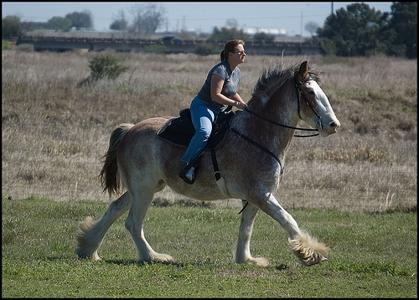person: (178, 40, 249, 178)
